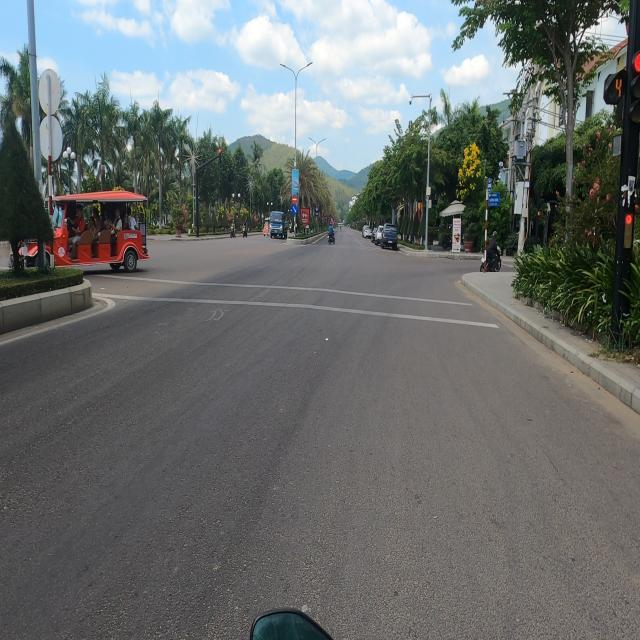walk-crossing: (108, 274, 504, 334)
